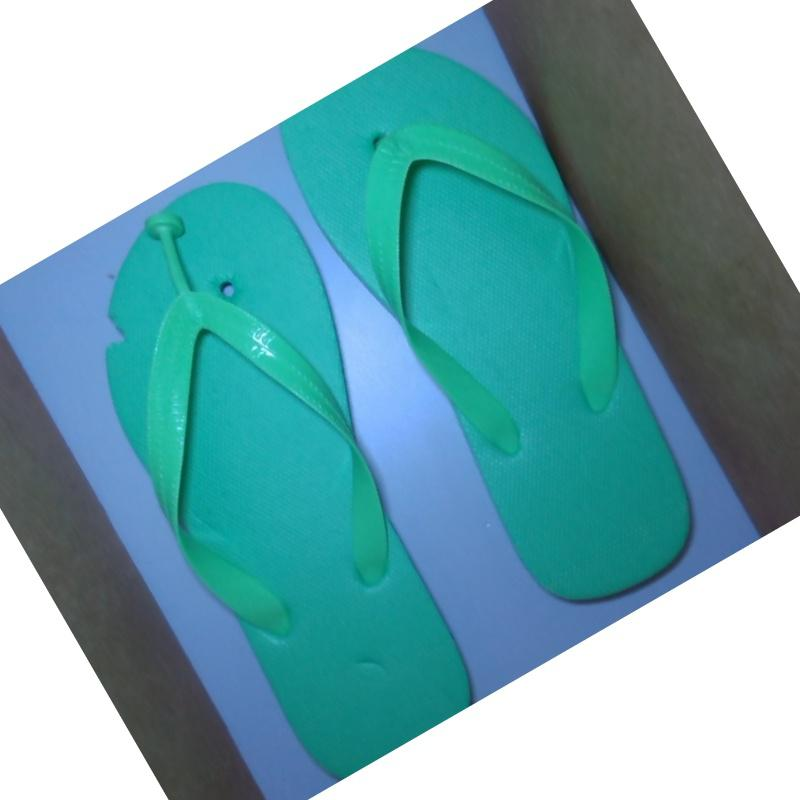chipped: (85, 292, 141, 364)
detached: (140, 207, 196, 266)
